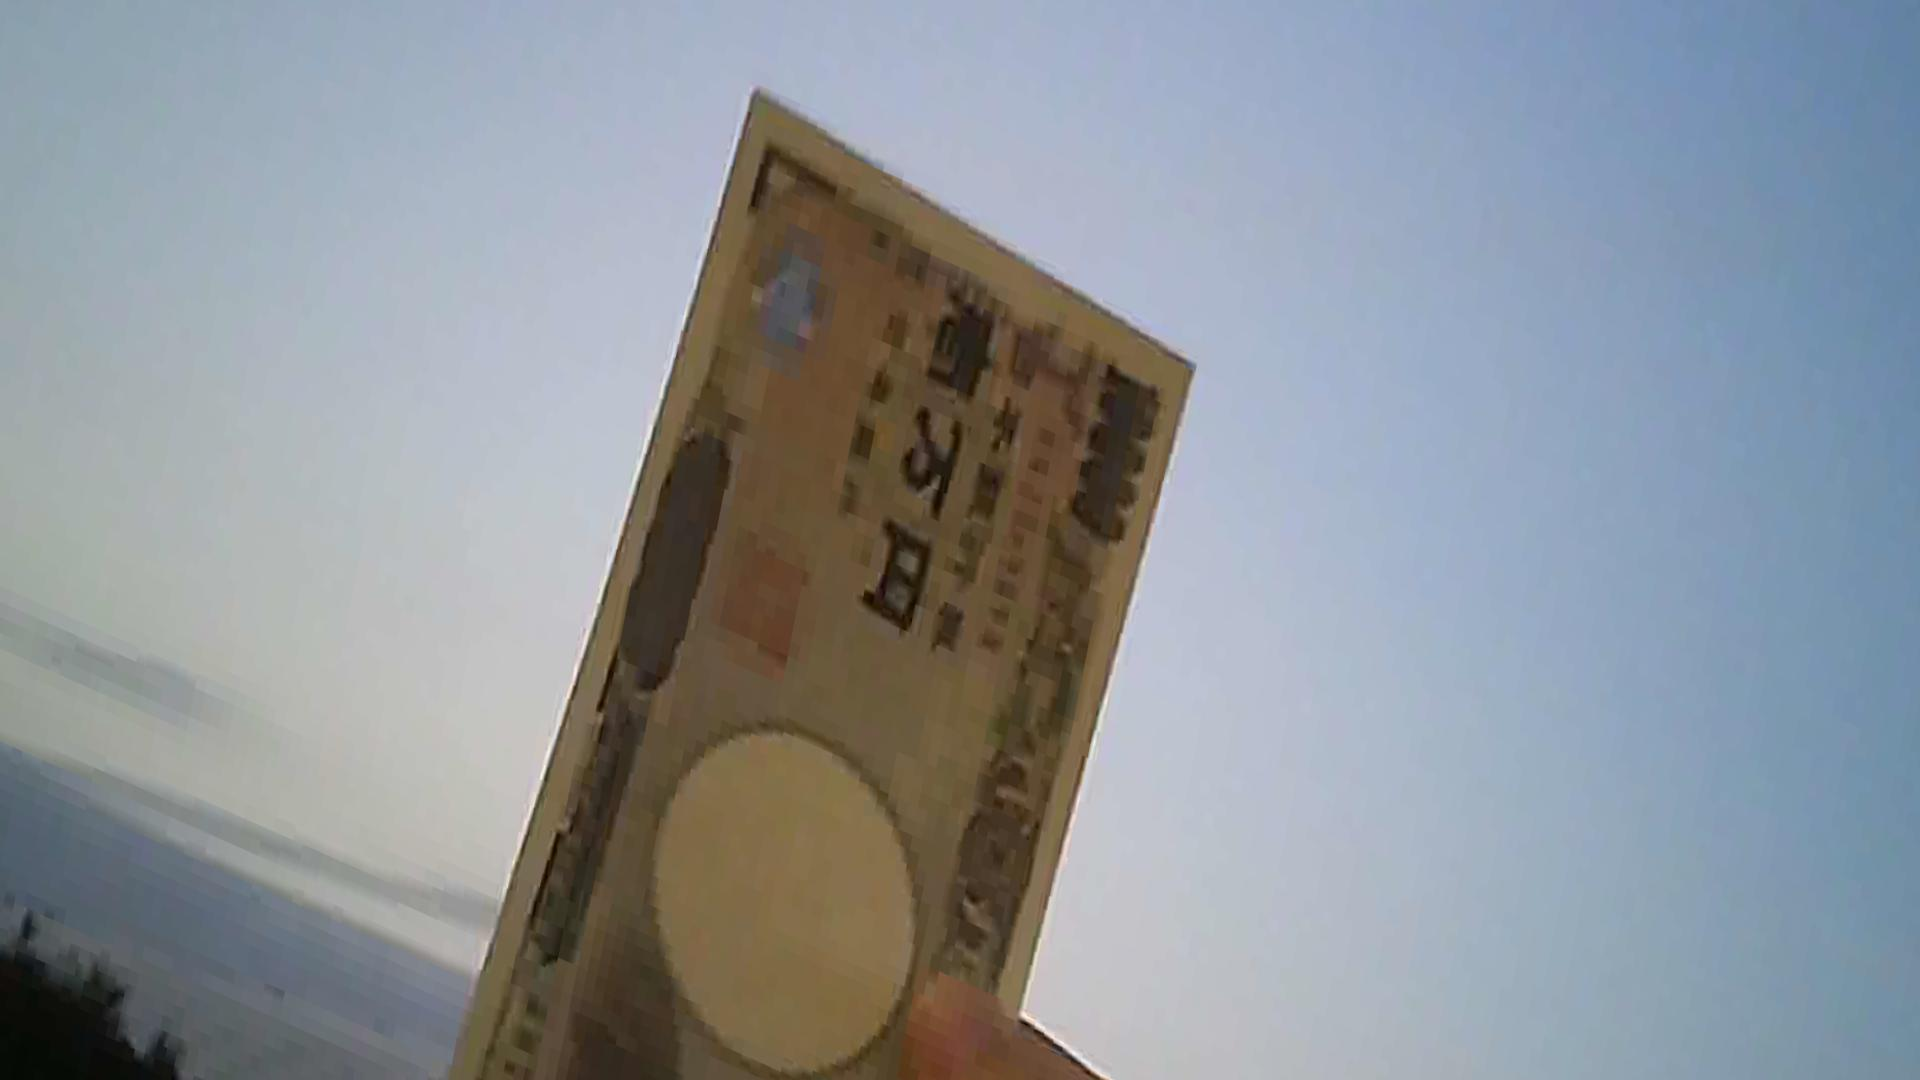10,000 Yen: (473, 75, 1217, 1079)
